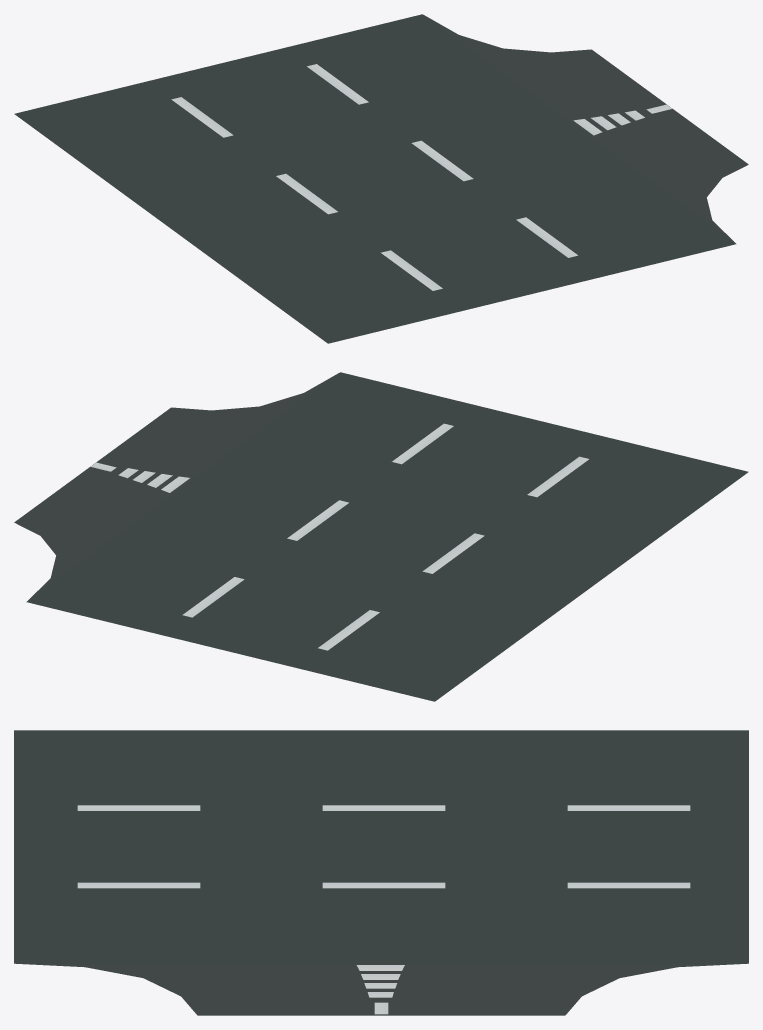
Rendered from Road_2_310.fbx.
3 views of the same model, one above another, from view 1: azimuth 30°, elevation 25°; view 2: azimuth 150°, elevation 25°; view 3: azimuth 270°, elevation 25° (orthographic). The views are drawn at different scales.
Visible parts, largest first — view 1: Road_2_310; view 2: Road_2_310; view 3: Road_2_310.
Part boxes in pixels (x1,y1,x2,y2): Road_2_310: [14, 14, 748, 343]; Road_2_310: [14, 372, 748, 701]; Road_2_310: [14, 730, 748, 1015].
Size of the model in its own units: 1652 by 1.66 by 1800.
